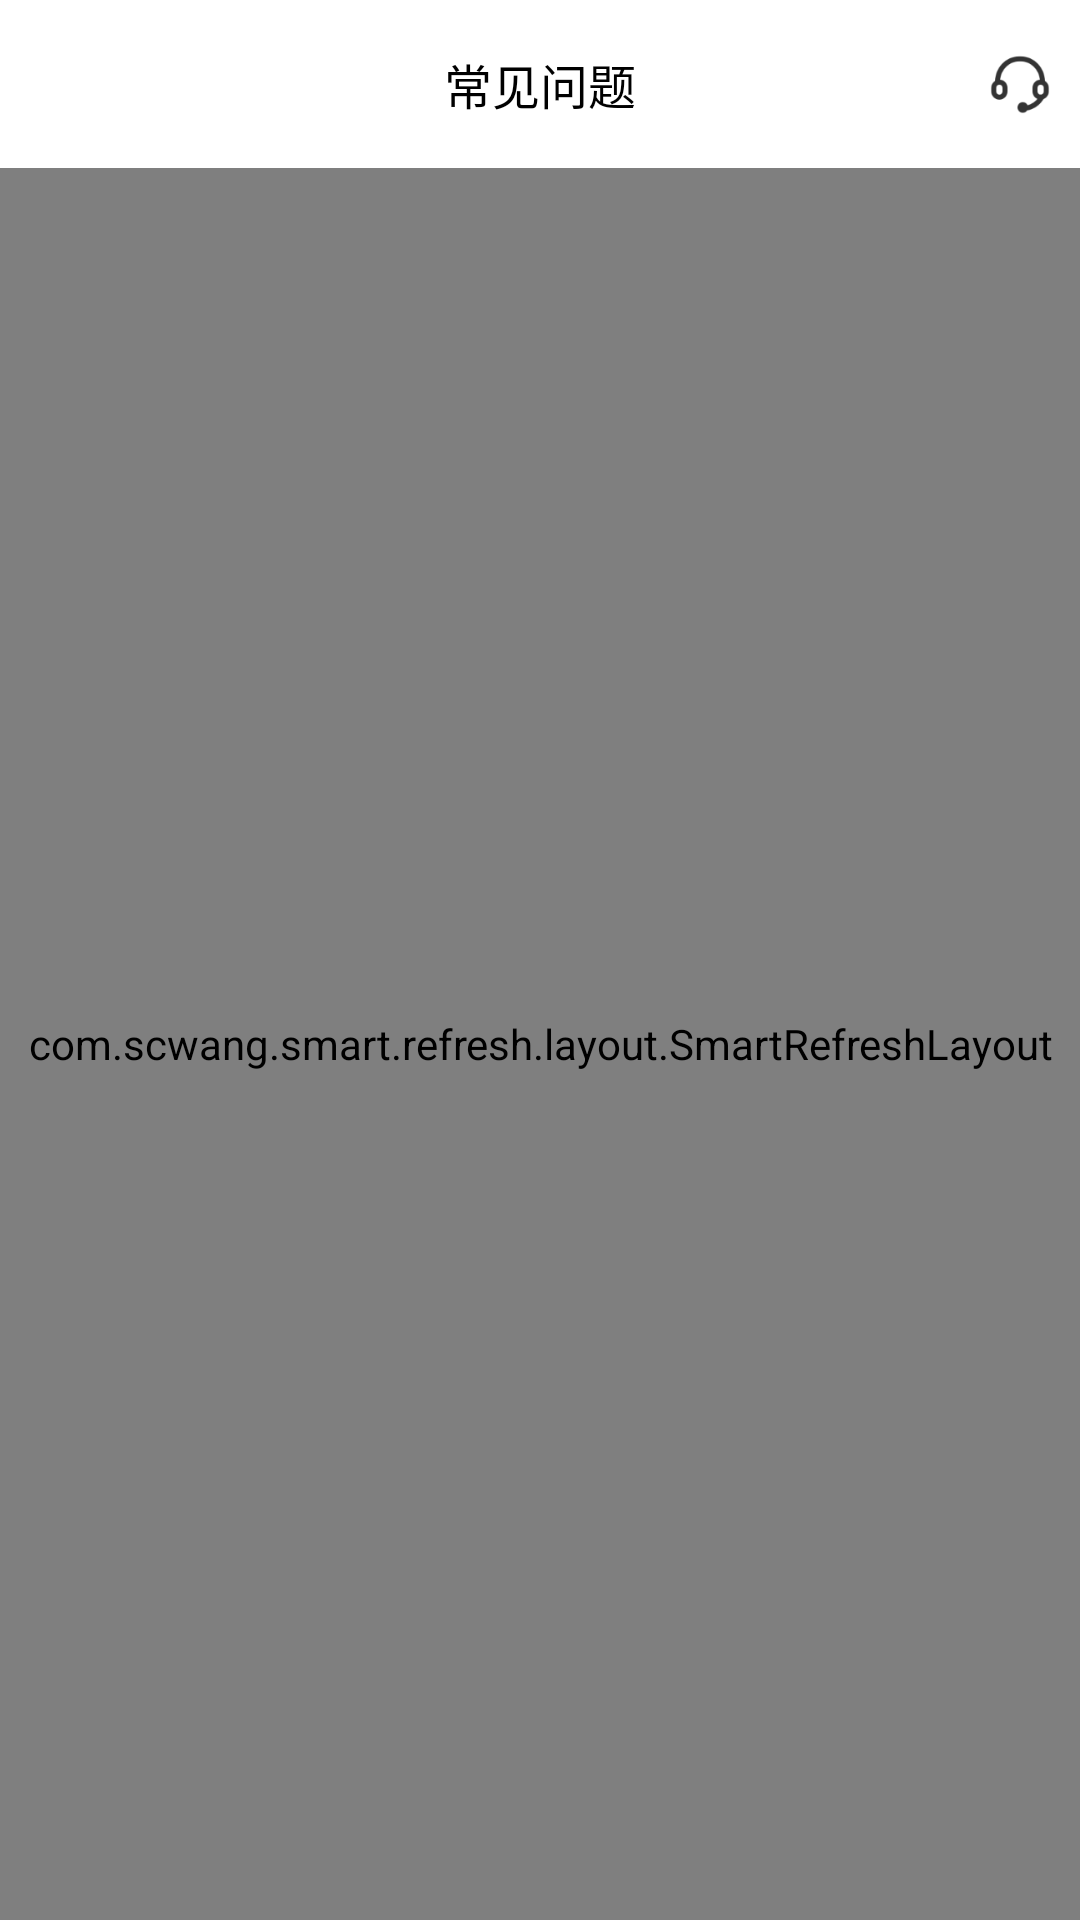

Point at icon controls on the screen. Image size 1080px x 1920px, points as point (x, y).
qa customer: point (1020, 84)
